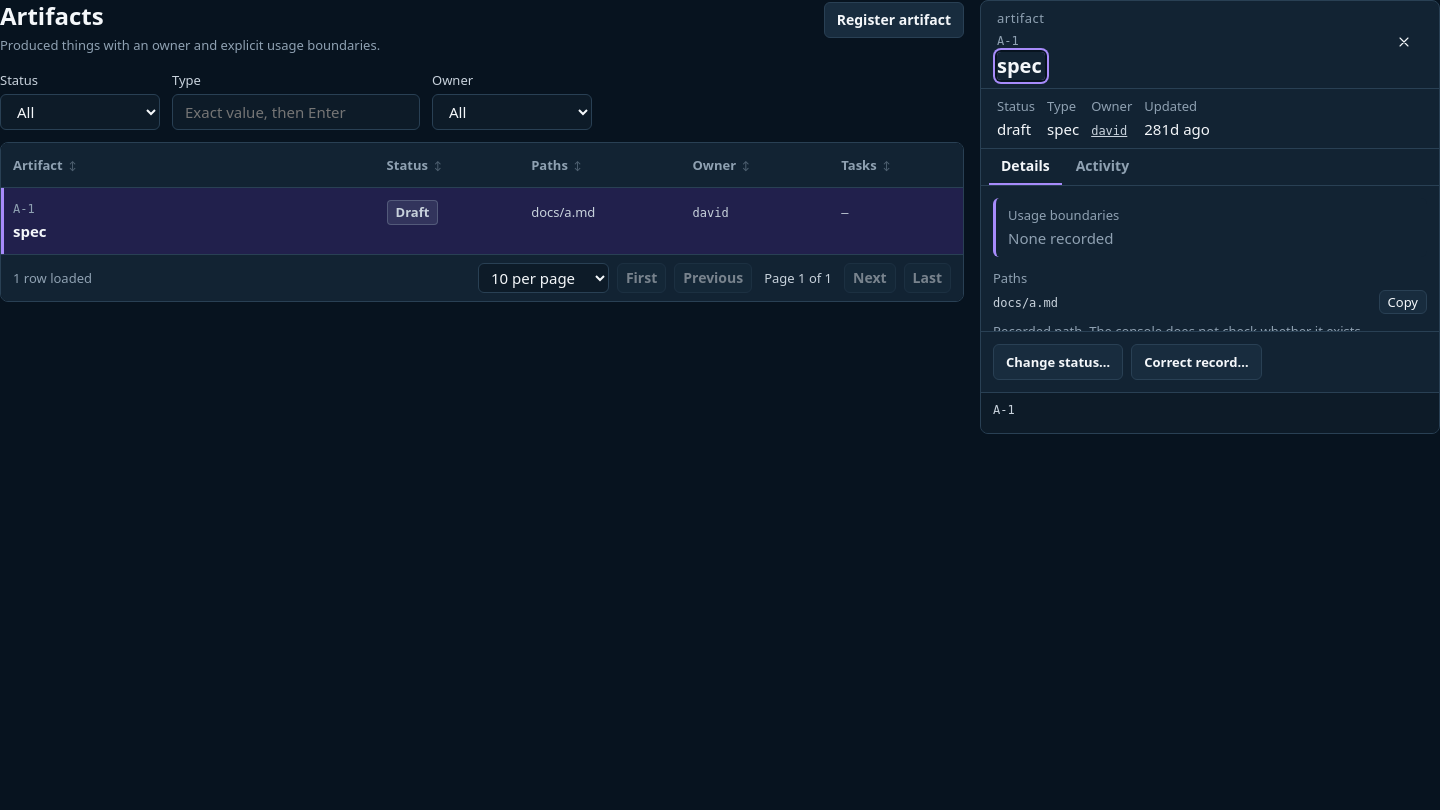
Test: the artifact status dialog › returns focus to its opener after a successful submit
Click the button "Change status…" at point(1058, 362), box [993, 344, 1123, 380]
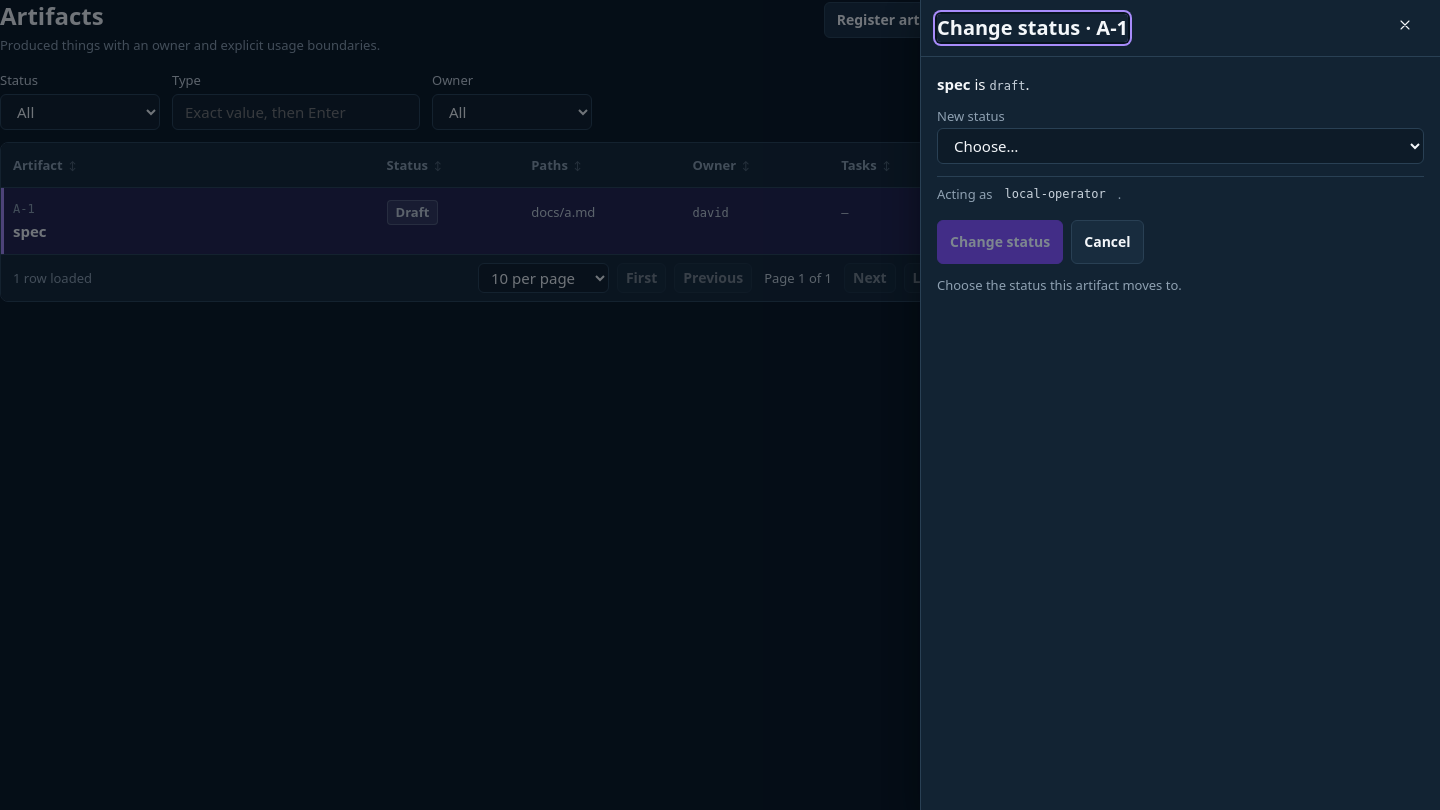
Select "review" in the dropdown labelled "New status" at point(1180, 146), box [937, 128, 1424, 164]
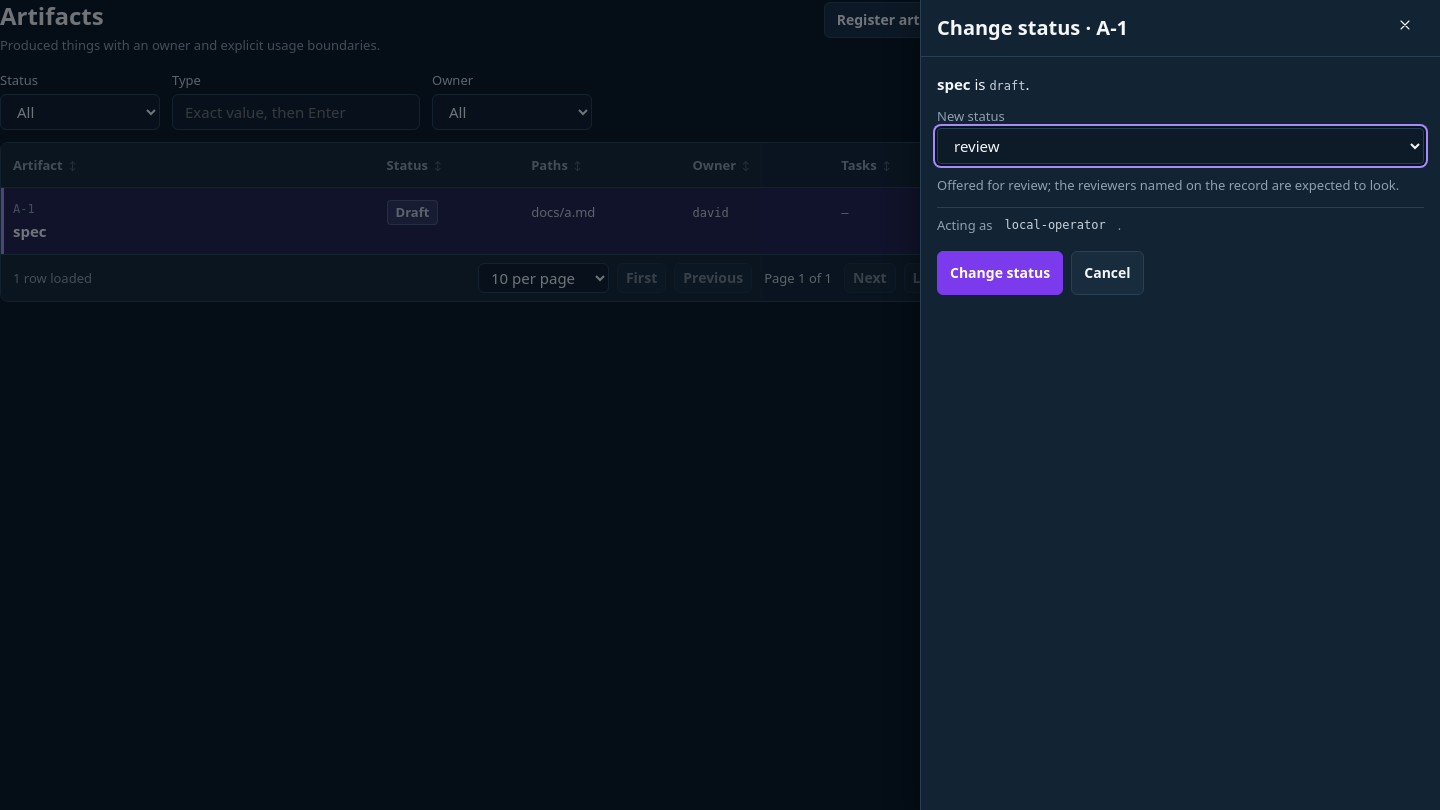
Click the button "Change status" at point(1000, 273), box [937, 251, 1063, 295]
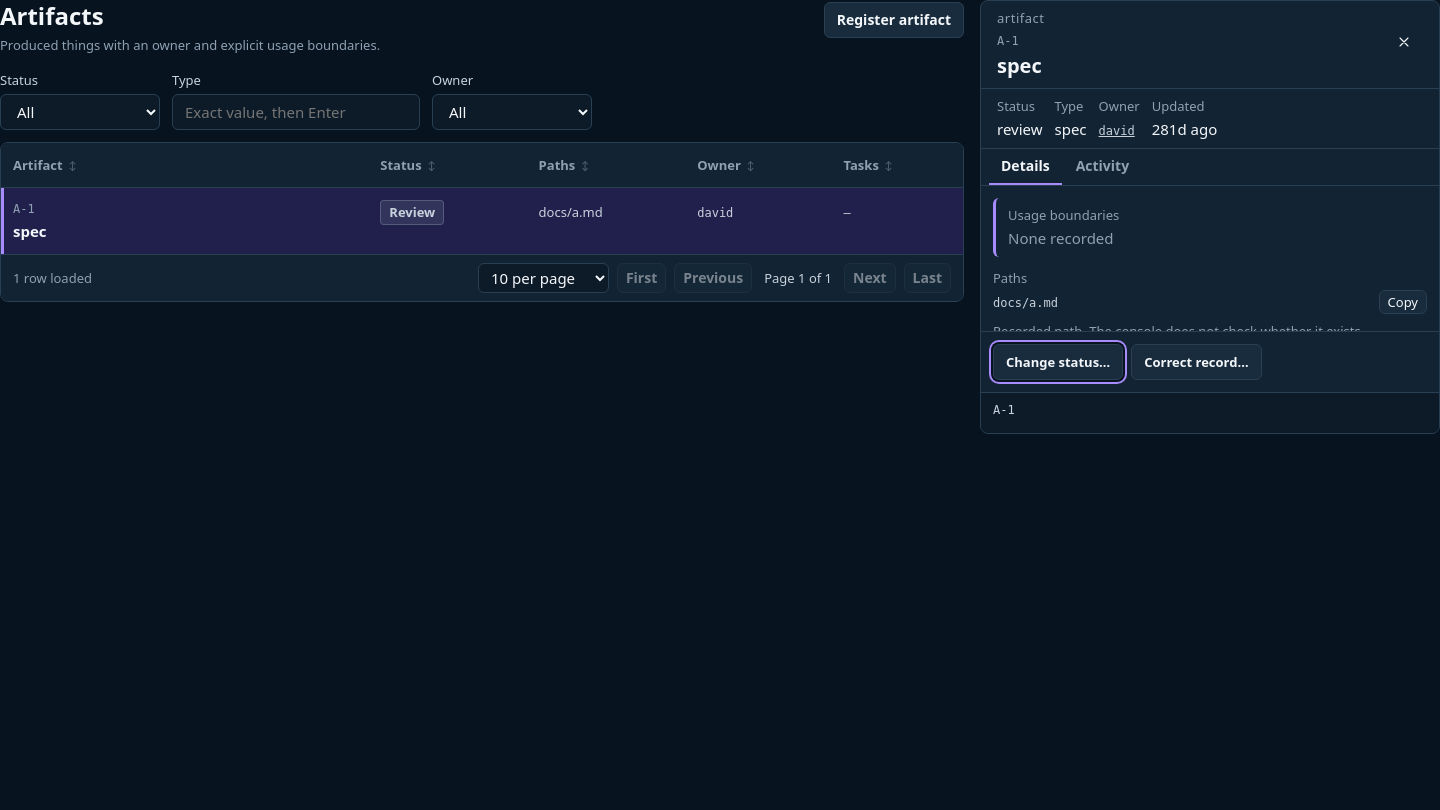
Expected: the dialog is gone
